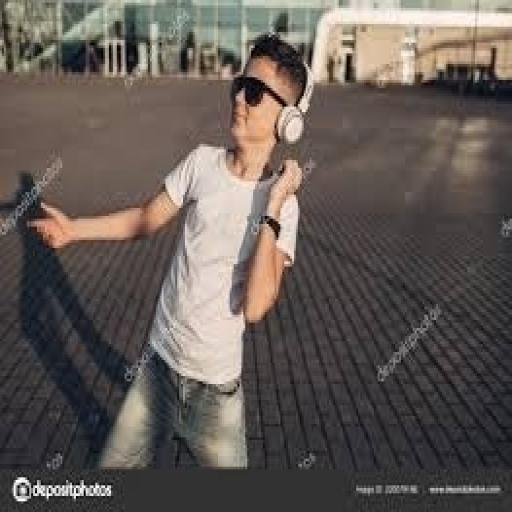listening_to_music: (26, 29, 316, 472)
